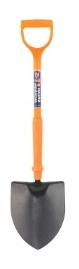MACHETTE: (1, 11, 68, 269)
